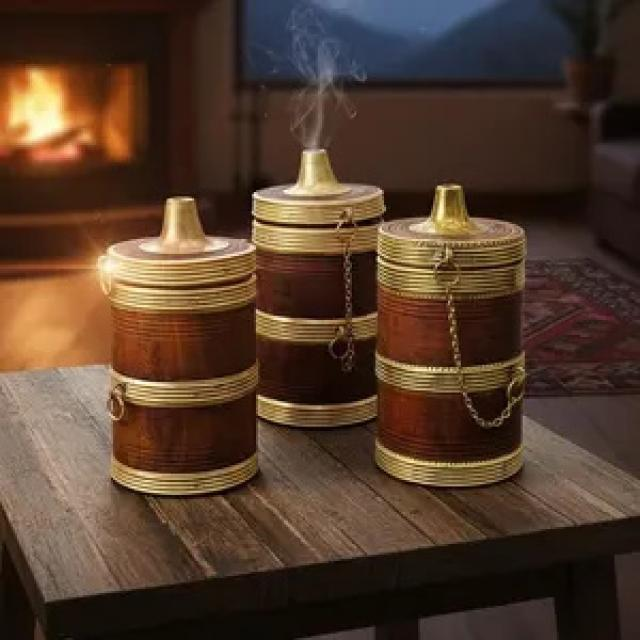fire: (9, 66, 68, 141)
